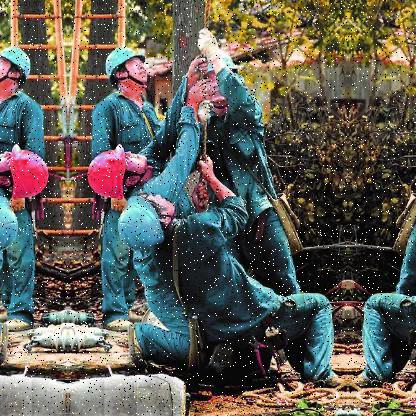Helmet: (112, 186, 184, 260), (188, 40, 248, 114), (0, 136, 63, 204), (83, 144, 159, 196), (96, 44, 158, 95), (0, 41, 34, 101), (0, 191, 22, 271)
